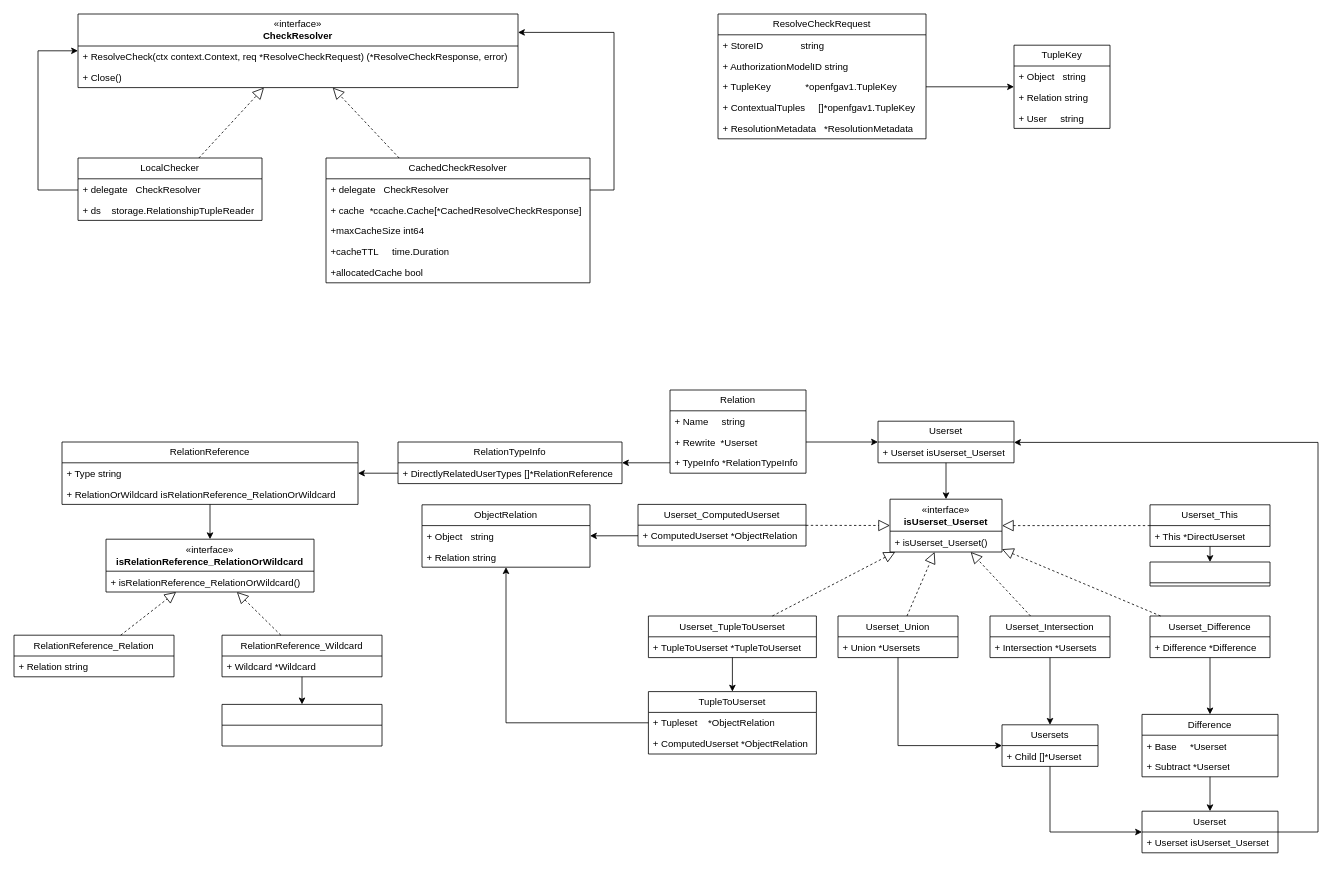
This 1338x869 diagram has some shape labels left out. The shapes that lost their labels are listed below. From the top down, each one's centre as x and y in pixels, then its label:
(x=1209, y=573): DirectUserset
(x=301, y=725): Wildcard
